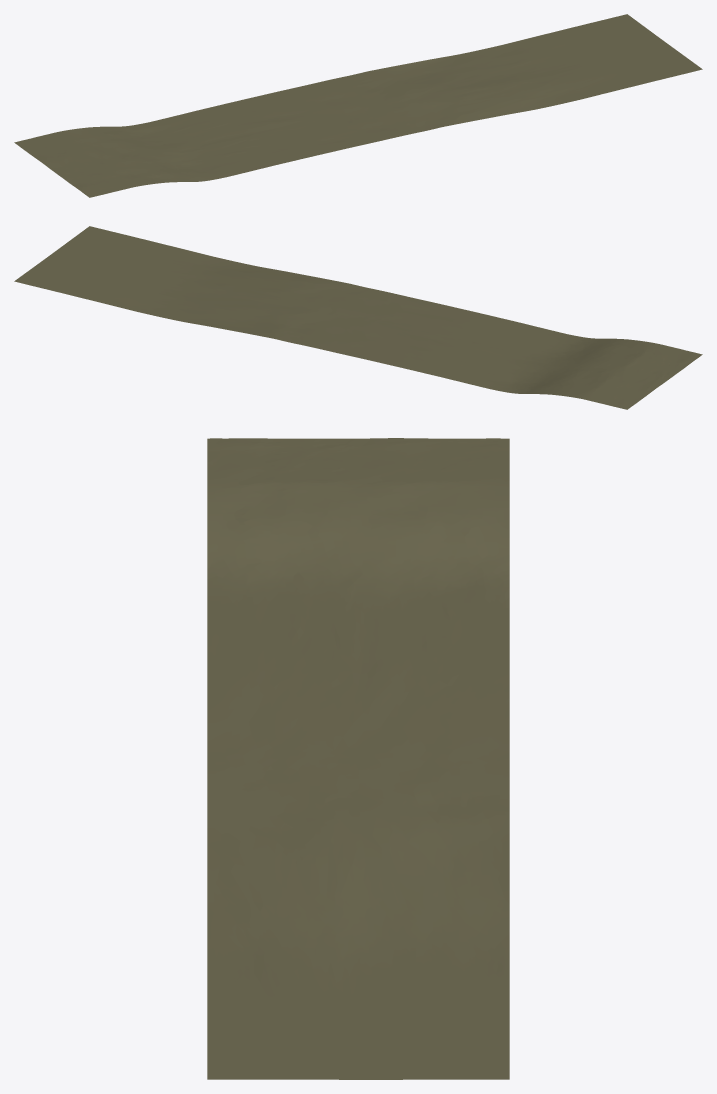
The model's file is shores_sand_I.fbx.
3 views of the same model, one above another, from view 1: azimuth 30°, elevation 25°; view 2: azimuth 150°, elevation 25°; view 3: azimuth 270°, elevation 25° (orthographic). The views are drawn at different scales.
Parts seen in each view (by area): view 1: shores_sand_I; view 2: shores_sand_I; view 3: shores_sand_I.
Boxes of the visible parts, left/top/right/bottom form: shores_sand_I: left=14, top=14, right=702, bottom=197; shores_sand_I: left=14, top=226, right=702, bottom=409; shores_sand_I: left=207, top=438, right=509, bottom=1079.
Size of the model in its own units: 7326 by 250 by 1565.
